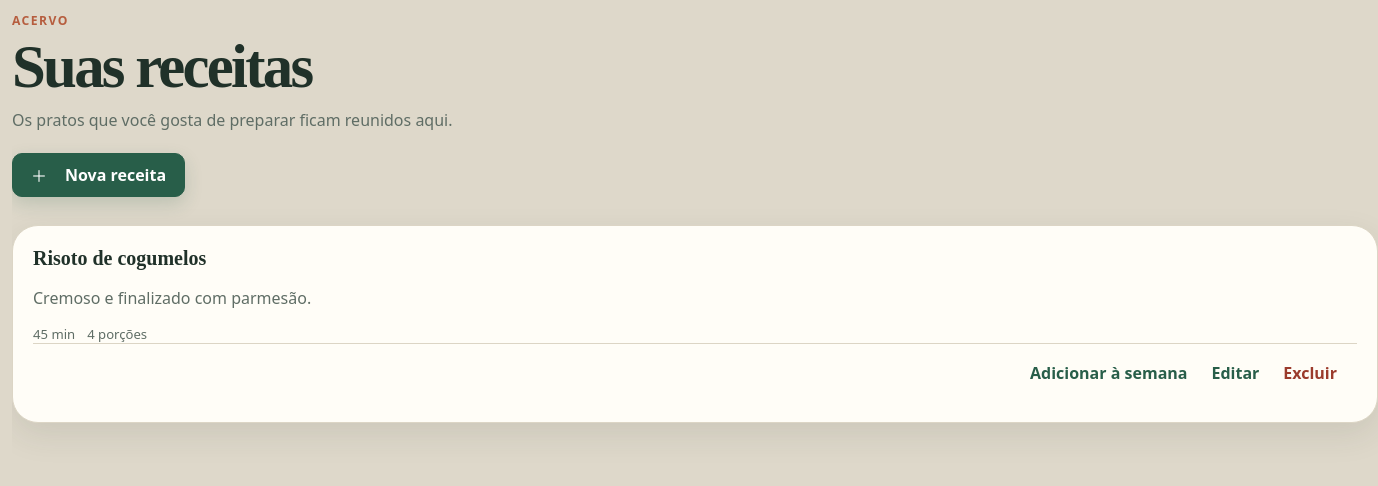
Test: RecipesPage › keeps the recipe when deletion is cancelled and reports API failure
The width and height of the screenshot is (1378, 486).
Expected: the heading "Risoto de cogumelos" is shown, [33,246,206,270]
Click the button "Excluir": (1310, 373) [1277,352,1343,394]
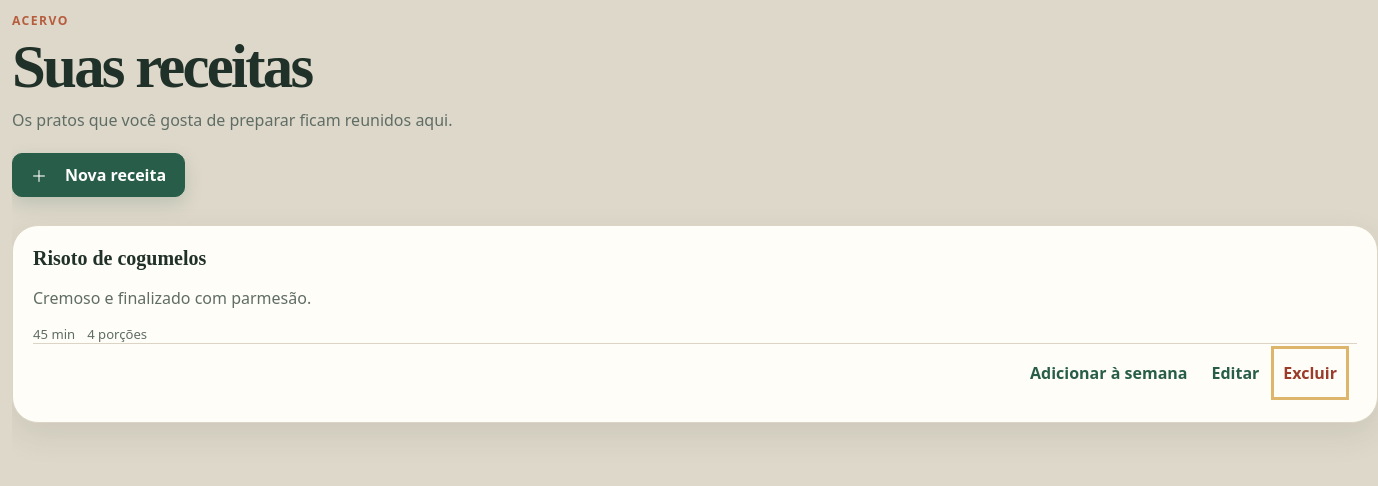
Expected: the heading "Risoto de cogumelos" is shown, [33,246,206,270]
Click the button "Excluir": (1310, 373) [1277,352,1343,394]
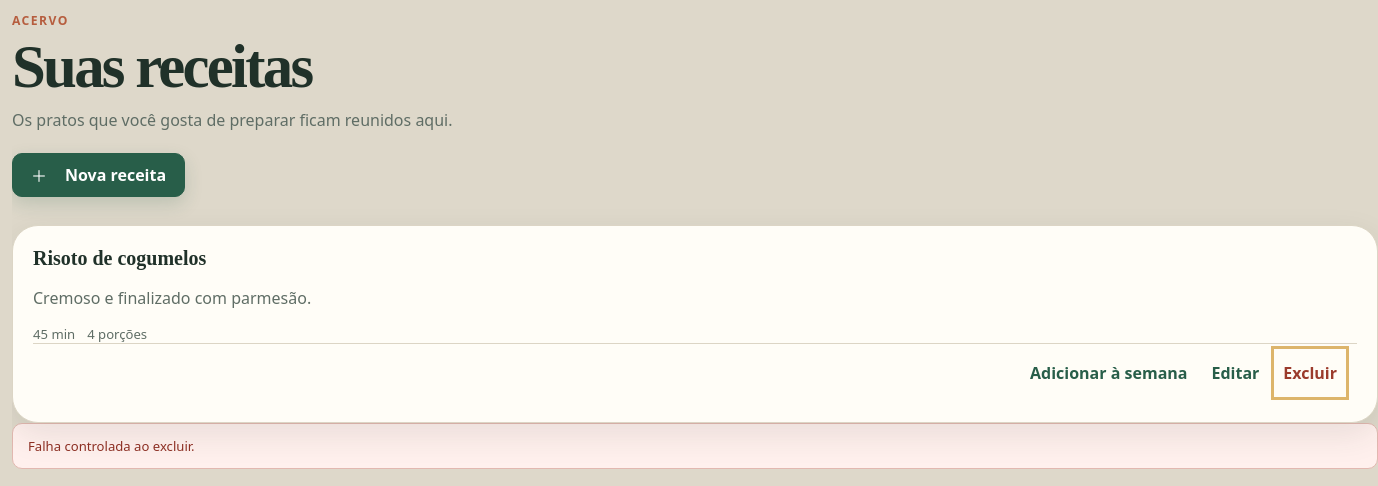
Expected: the message reads "Falha controlada ao excluir.", [28,437,195,455]
